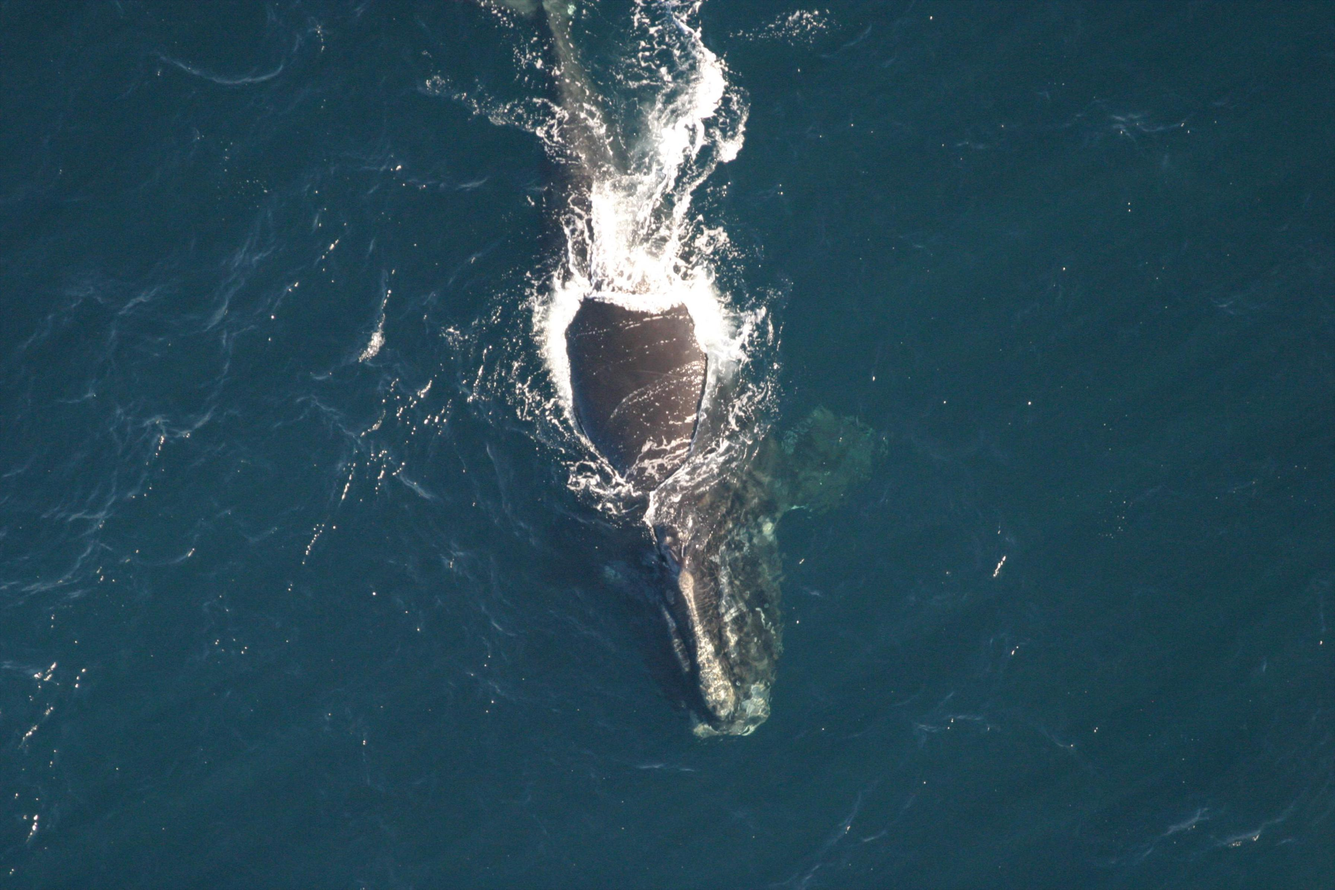whale: (457, 0, 901, 752)
